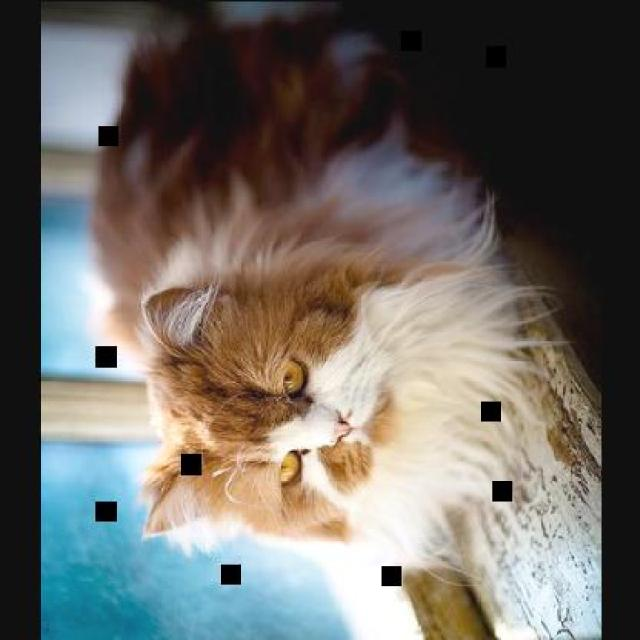unauthorized: (86, 0, 577, 594)
